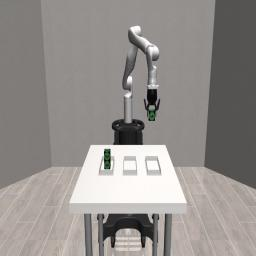cube1: (148, 109, 155, 121)
cube2: (104, 147, 110, 161)
cube3: (104, 160, 110, 170)
